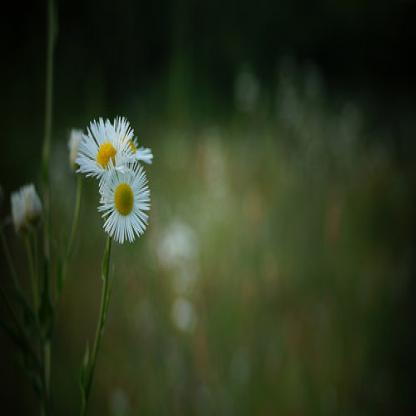ASTER: (64, 69, 168, 300)
